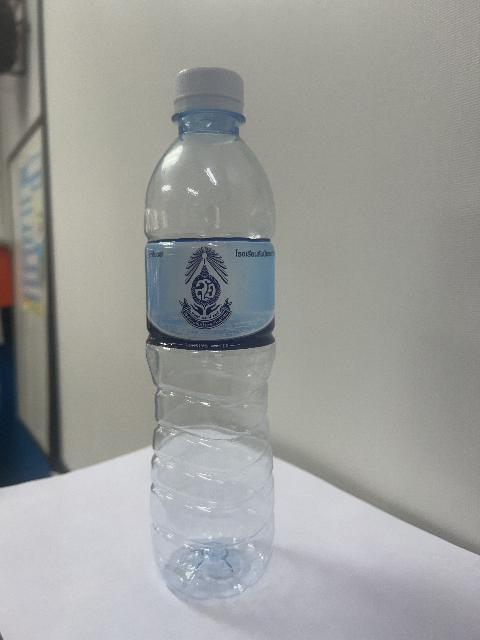bottle: (145, 68, 274, 598)
